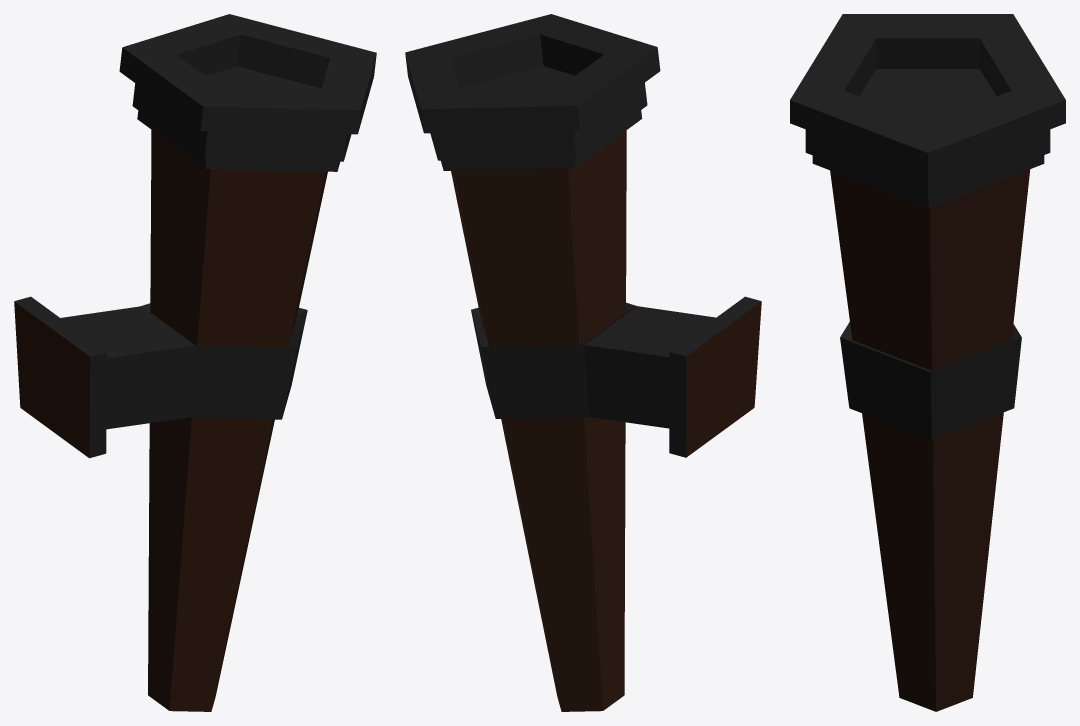
File: torche.fbx
The picture shows the model from 3 angles, left to right: view 1: azimuth 30°, elevation 25°; view 2: azimuth 150°, elevation 25°; view 3: azimuth 270°, elevation 25°; orthographic projection. The views are drawn at different scales.
Visible parts, largest first — view 1: TorcheMesh; view 2: TorcheMesh; view 3: TorcheMesh.
Part boxes in pixels (<box>): TorcheMesh: <box>14,14,376,711</box>; TorcheMesh: <box>405,14,761,711</box>; TorcheMesh: <box>790,14,1065,711</box>.
Bounding box in the file's own units: 17.01 × 32.01 × 11.97.
